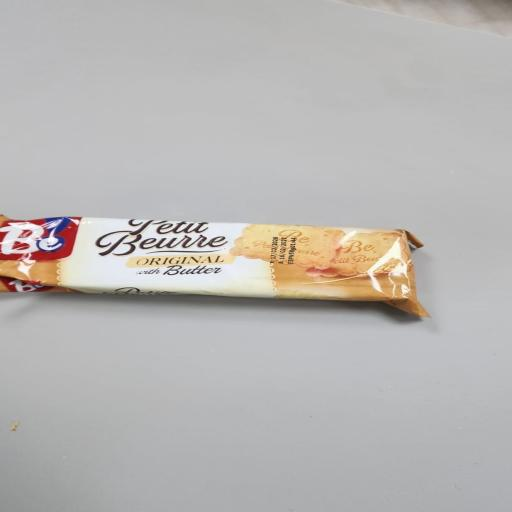petit_beurre: (0, 184, 496, 397)
